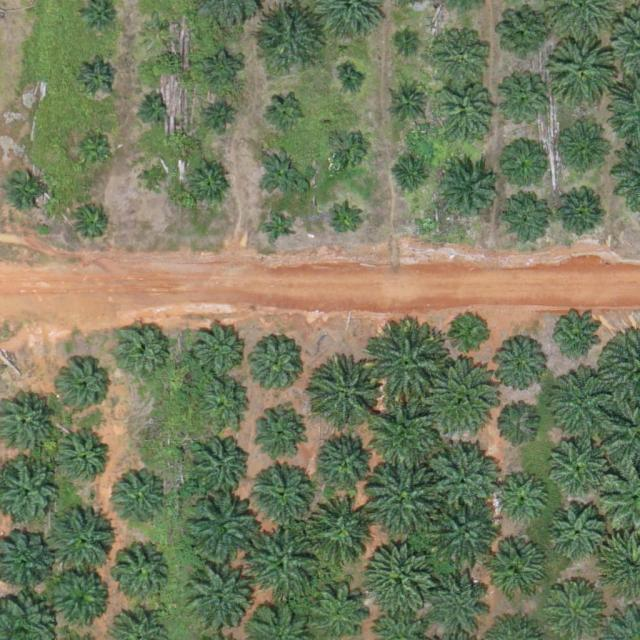Healthy: (369, 329, 447, 408), (365, 466, 436, 537), (304, 497, 375, 568), (432, 364, 502, 435), (371, 403, 442, 473), (364, 541, 434, 612), (186, 495, 256, 566), (252, 3, 323, 73), (550, 367, 620, 437), (432, 498, 502, 568), (429, 444, 499, 514), (248, 532, 318, 602), (46, 505, 116, 575), (545, 35, 615, 105), (430, 565, 493, 628), (245, 333, 308, 396), (185, 569, 248, 632), (105, 470, 168, 533), (47, 566, 110, 629), (318, 430, 380, 493), (189, 434, 251, 497), (436, 159, 498, 222), (486, 541, 548, 603), (315, 366, 377, 428), (254, 464, 316, 526), (111, 542, 173, 604), (550, 504, 605, 559), (549, 439, 604, 494), (493, 340, 548, 395), (493, 473, 548, 528), (250, 405, 305, 460), (192, 325, 247, 380), (114, 323, 169, 378), (53, 430, 108, 485), (59, 361, 114, 416), (554, 121, 609, 176), (433, 29, 488, 84), (438, 88, 493, 143), (551, 583, 605, 638), (200, 377, 254, 432), (504, 195, 551, 243), (559, 193, 606, 240), (502, 82, 549, 129)
Small: (550, 311, 604, 366), (494, 405, 541, 453), (6, 167, 53, 214), (501, 10, 548, 57), (186, 161, 233, 208), (259, 149, 306, 196), (78, 59, 118, 99), (74, 204, 114, 244), (74, 130, 114, 170), (502, 147, 541, 187), (392, 158, 431, 198), (269, 94, 308, 134), (452, 313, 492, 352), (326, 130, 365, 170), (204, 51, 243, 90), (330, 207, 361, 239), (208, 100, 239, 132), (263, 212, 294, 244), (143, 11, 174, 43), (137, 91, 168, 123), (394, 87, 425, 118), (140, 164, 171, 195), (399, 31, 423, 55), (339, 70, 362, 94)
